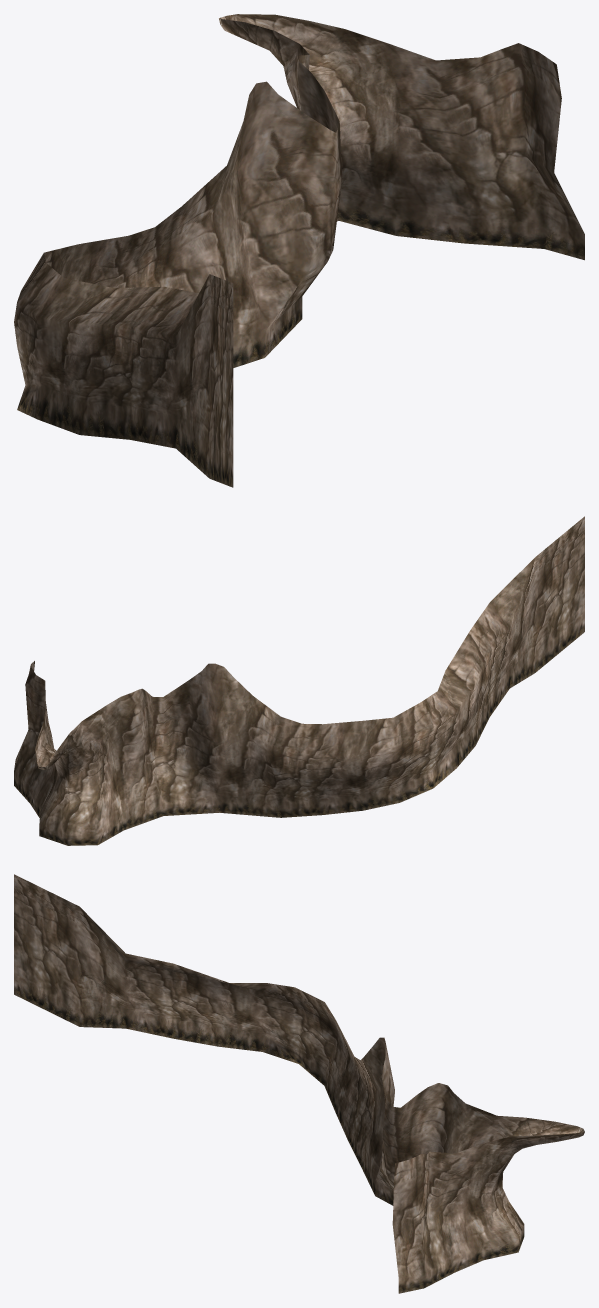
The model's file is OVERHILL_A_01_LINE18.fbx.
3 views of the same model, one above another, from view 1: azimuth 30°, elevation 25°; view 2: azimuth 150°, elevation 25°; view 3: azimuth 270°, elevation 25° (orthographic). The views are drawn at different scales.
Visible parts, largest first — view 1: OVERHILL_A_01_LINE18; view 2: OVERHILL_A_01_LINE18; view 3: OVERHILL_A_01_LINE18.
Boxes of the visible parts, box(x1,y1,x2,y2) form: OVERHILL_A_01_LINE18: box(14, 14, 584, 487); OVERHILL_A_01_LINE18: box(14, 516, 584, 845); OVERHILL_A_01_LINE18: box(14, 874, 584, 1293).
Size of the model in its own units: 179909 by 96760 by 222776.
Materials: 2 (2 with a texture image).
